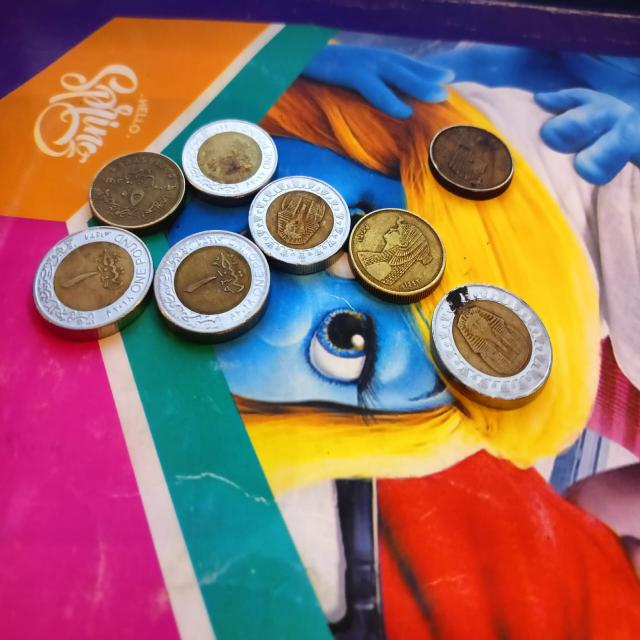Half Pound: (346, 210, 454, 298), (422, 118, 518, 209), (84, 152, 190, 232)
One Pound: (424, 276, 561, 408), (26, 226, 160, 351), (149, 228, 268, 334), (177, 114, 286, 201), (248, 181, 364, 260)
